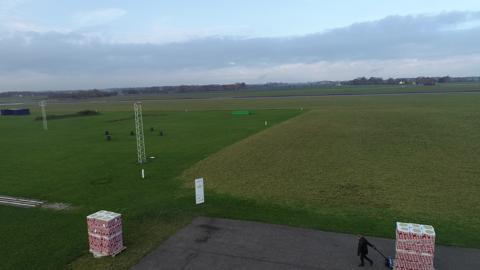RockwoolPallet: (392, 219, 435, 269)
